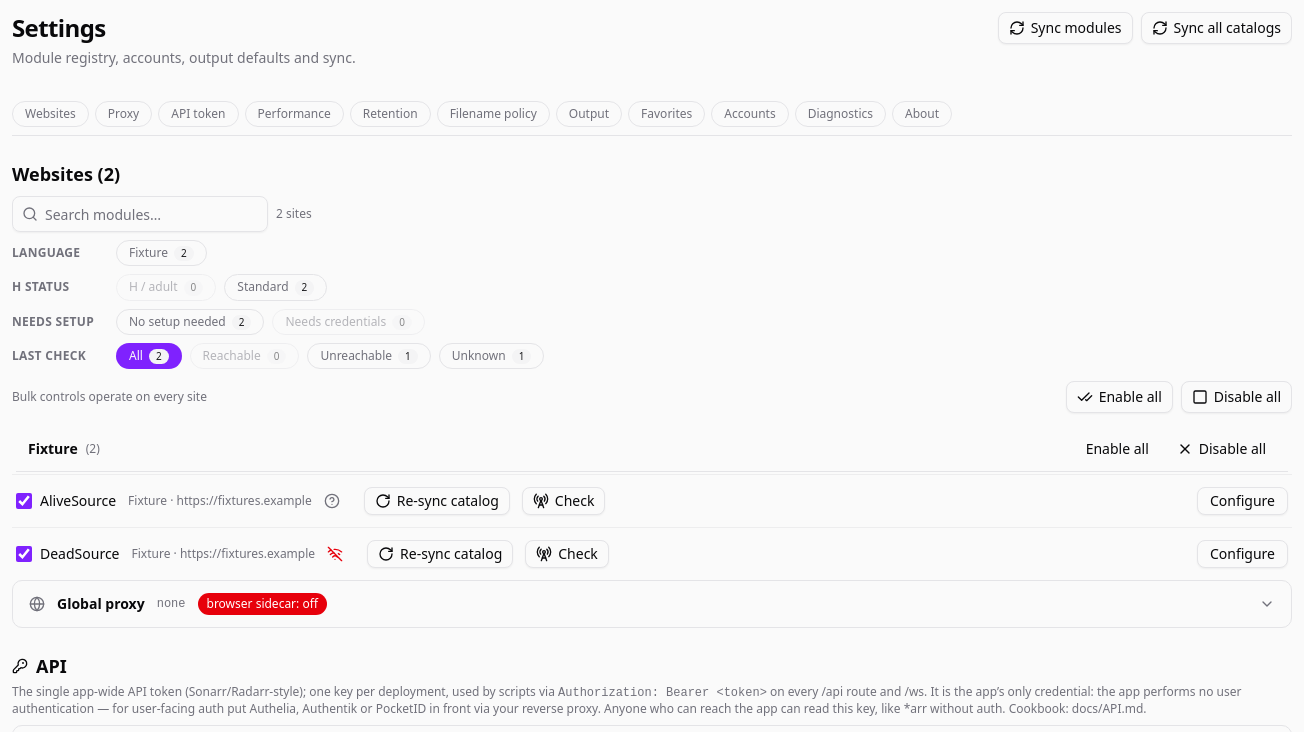
Test: Settings registry: status column + per-row Check › the Unreachable chip filters the registry (?filter= URL-as-truth)
This screenshot has width=1304, height=732.
What coordinates should you click on to do the following:
click the button "Unreachable 1"
I would click on:
 (369, 356)
Its box is left=308, top=343, right=431, bottom=369.
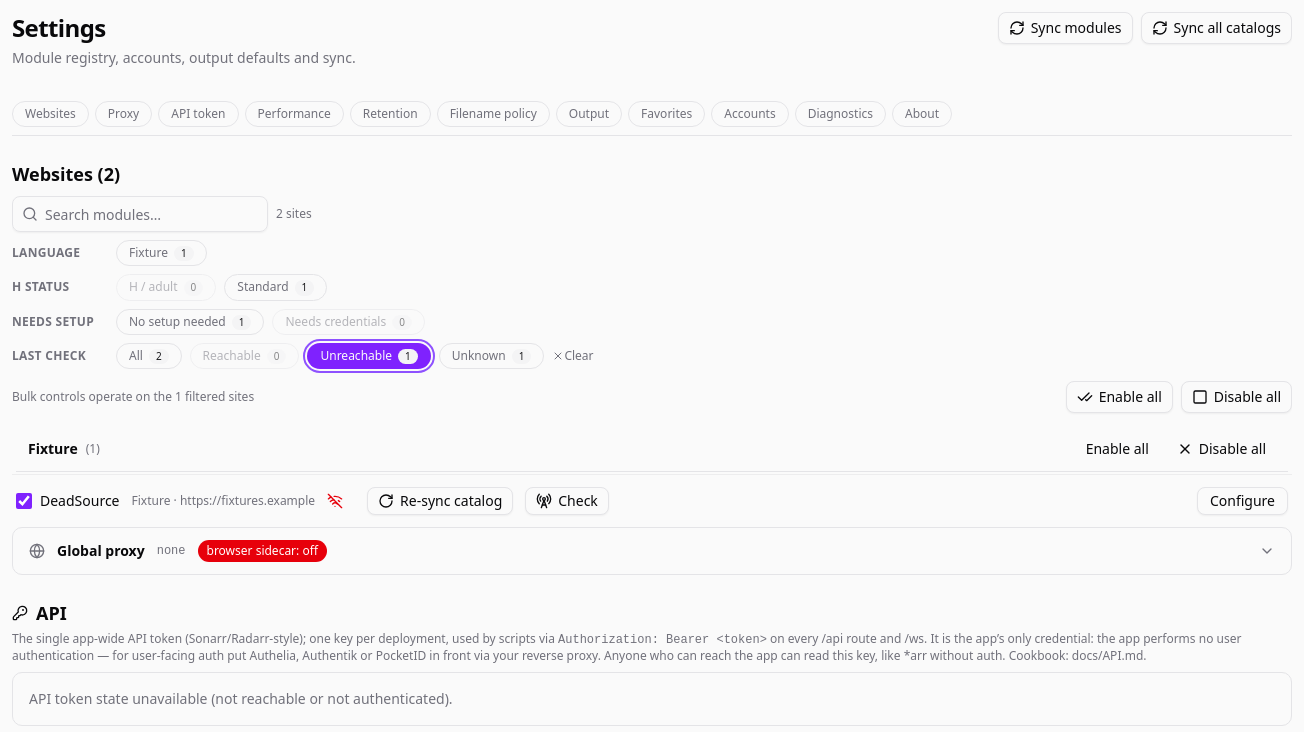
expect the checkbox labelled "DeadSource" is shown: met, box left=16, top=493, right=32, bottom=509
expect the label labelled "AliveSource" is gone: met
